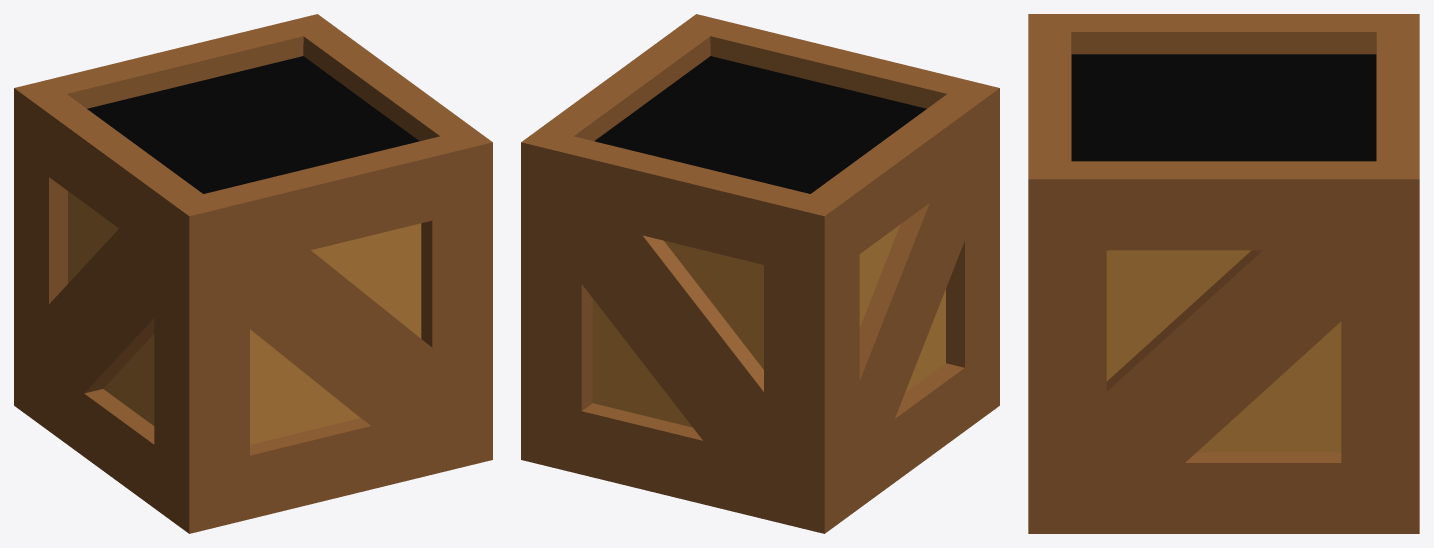
The model's file is Crate.fbx.
3 views of the same model, side by side, from view 1: azimuth 30°, elevation 25°; view 2: azimuth 150°, elevation 25°; view 3: azimuth 270°, elevation 25° (orthographic). The views are drawn at different scales.
Visible parts, largest first — view 1: Crate; view 2: Crate; view 3: Crate.
Part boxes in pixels (x1,y1,x2,y2): Crate: (14,14,492,533); Crate: (521,14,999,533); Crate: (1028,14,1419,533).
Bounding box in the file's own units: 44.32 × 44.32 × 44.32.
